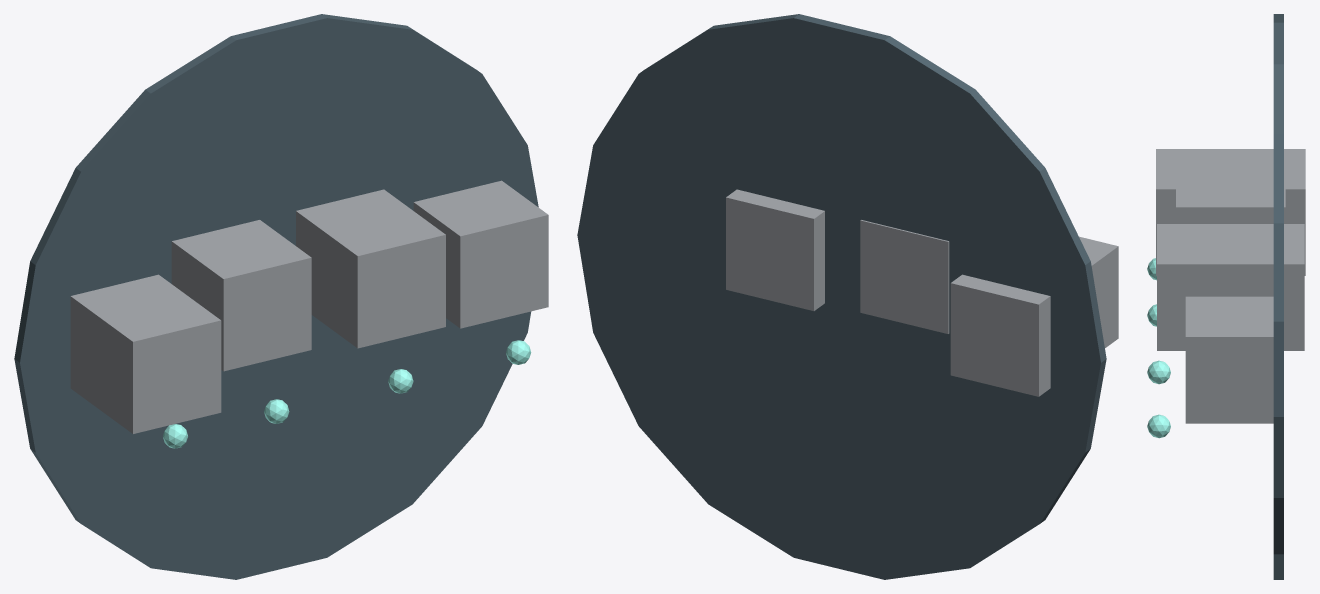
Rendered from 03_ambient_object_cluster.glb.
The picture shows the model from 3 angles, left to right: view 1: azimuth 30°, elevation 25°; view 2: azimuth 150°, elevation 25°; view 3: azimuth 270°, elevation 25°; orthographic projection. The views are drawn at different scales.
Parts seen in each view (by area): view 1: scatter_base, tech_crate_0, tech_crate_2, tech_crate_1, tech_crate_3; view 2: scatter_base, tech_crate_0, tech_crate_2, tech_crate_1; view 3: tech_crate_2, tech_crate_3, scatter_base, tech_crate_1, tech_crate_0, status_light_3, status_light_2.
Part boxes in pixels (x1,y1,x2,y2): scatter_base: (14, 14, 538, 579); tech_crate_0: (70, 274, 221, 433); tech_crate_2: (296, 189, 445, 348); tech_crate_1: (171, 220, 311, 371); tech_crate_3: (413, 180, 548, 328); scatter_base: (577, 14, 1106, 579); tech_crate_0: (950, 236, 1118, 396); tech_crate_2: (726, 189, 824, 310); tech_crate_1: (860, 220, 949, 333); tech_crate_2: (1157, 224, 1304, 350); tech_crate_3: (1185, 296, 1273, 423); scatter_base: (1273, 14, 1283, 579); tech_crate_1: (1176, 167, 1285, 223); tech_crate_0: (1156, 149, 1305, 275); status_light_3: (1147, 414, 1170, 438); status_light_2: (1147, 360, 1170, 384).
Size of the model in its own units: 1.9 by 1.87 by 0.5306.
